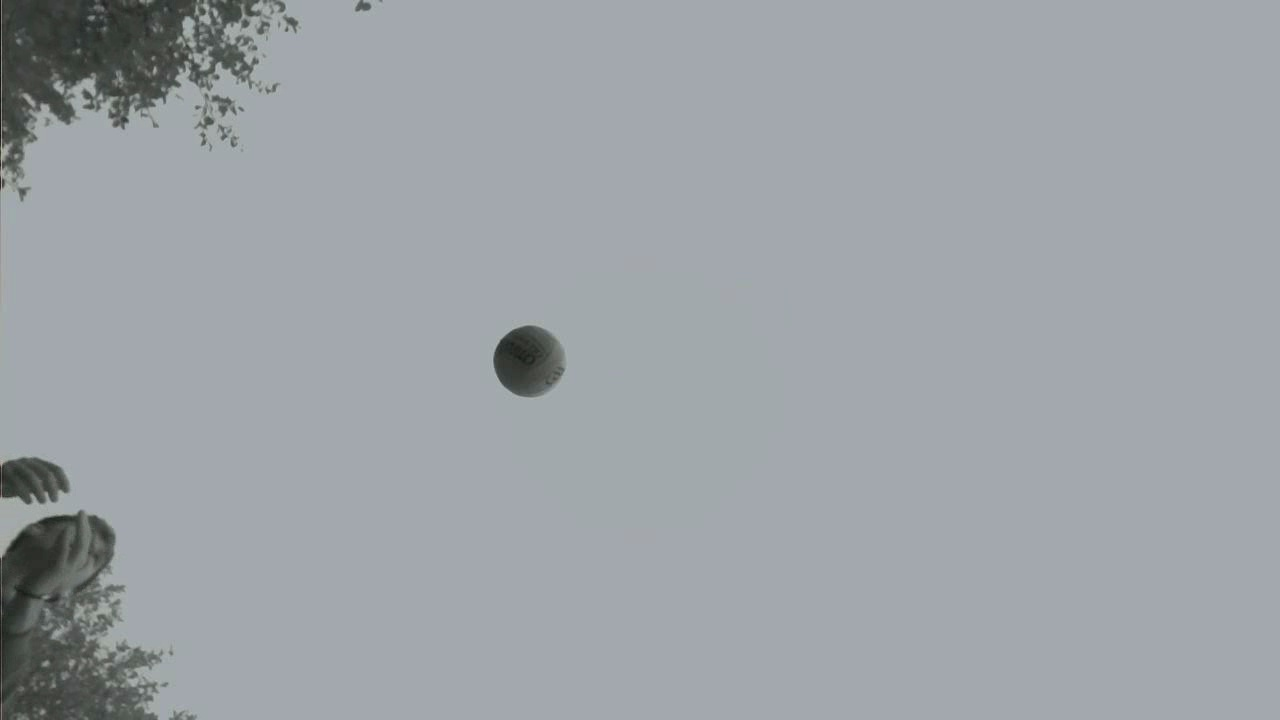Football-Spotter: (495, 325, 565, 395)
